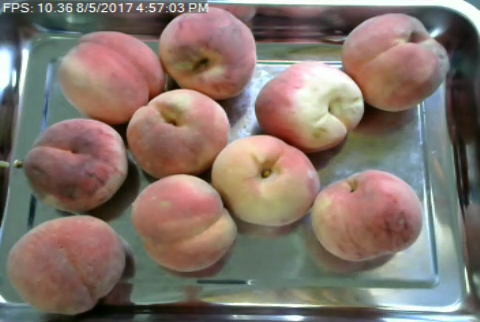Peach: (8, 215, 126, 314), (340, 11, 446, 112), (132, 171, 234, 272), (311, 169, 422, 261), (60, 28, 163, 126), (210, 135, 317, 227), (254, 60, 359, 153), (24, 118, 128, 211), (125, 88, 231, 178), (159, 6, 257, 99)
